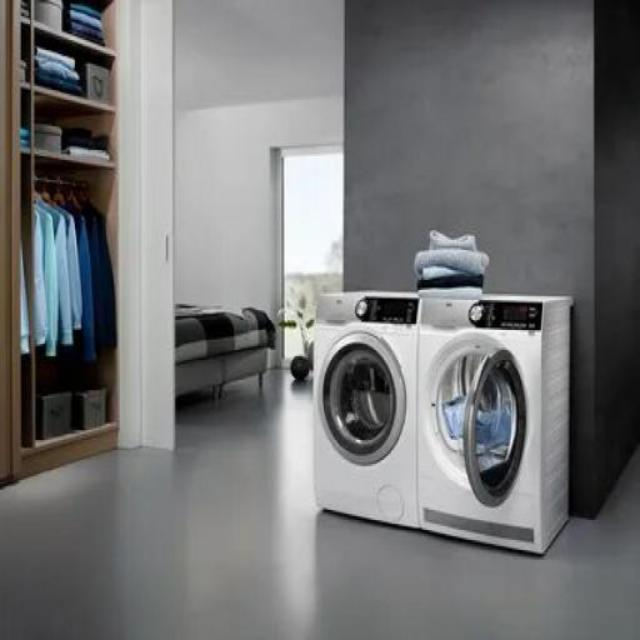Washing-Machine: (421, 288, 572, 550), (311, 285, 417, 523)
